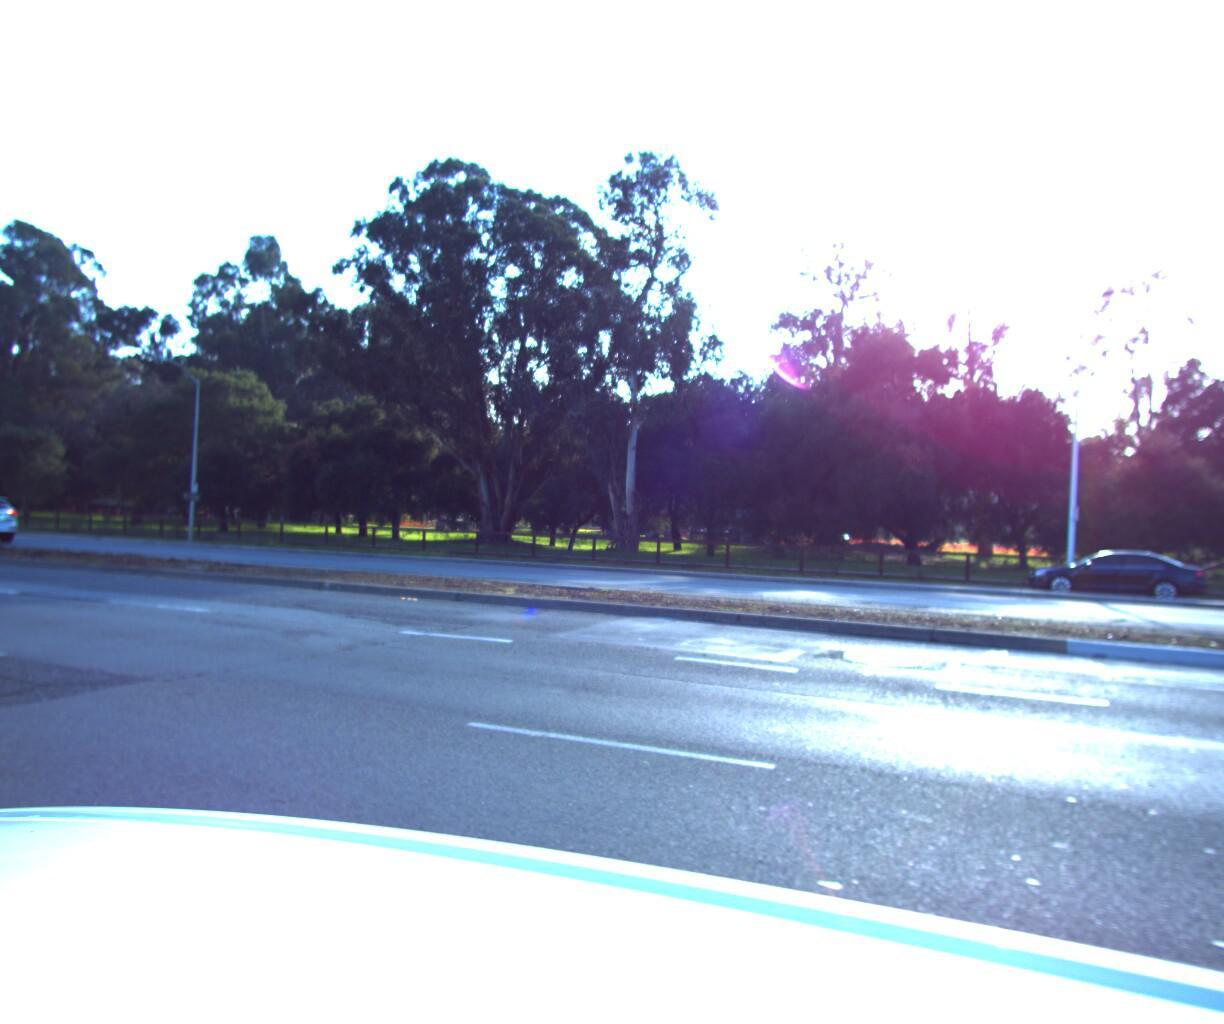car: (1030, 542, 1224, 603), (0, 489, 24, 542)
